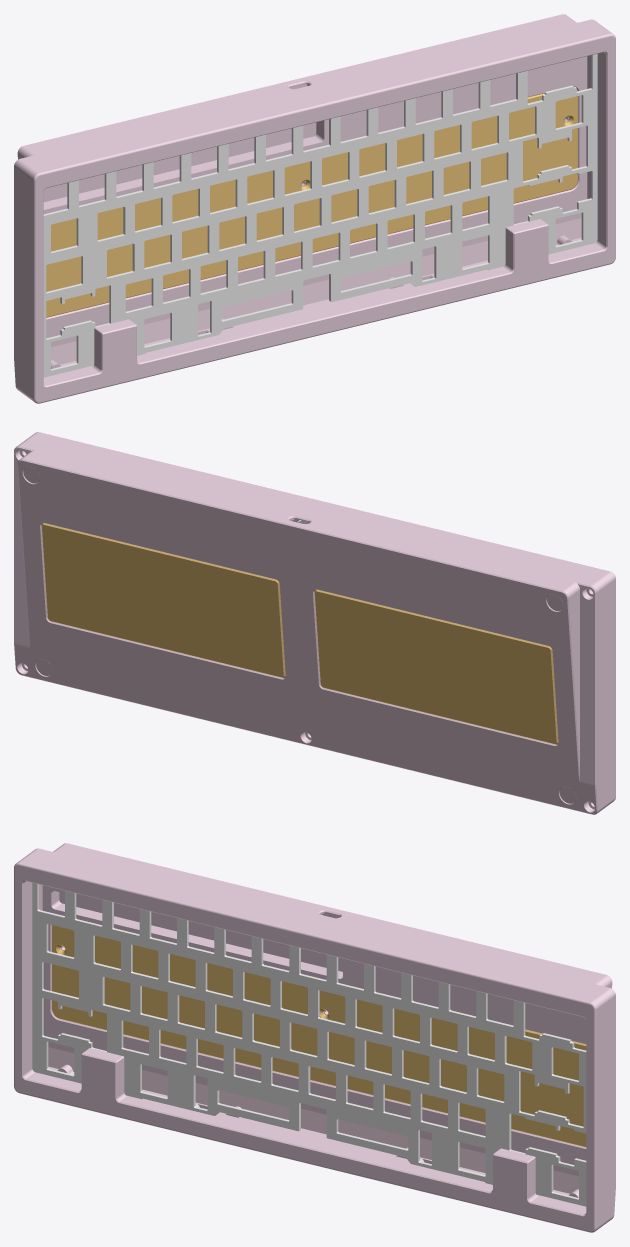
The model's file is shwill-shwilliam.fbx.
3 renders of one model, top to bottom at view 1: azimuth 30°, elevation 25°; view 2: azimuth 150°, elevation 25°; view 3: azimuth 330°, elevation 25°, orthographic.
Parts seen in each view (by area): view 1: Plate, Top, Bottom, Weight; view 2: Bottom, Weight, Top; view 3: Plate, Top, Bottom, Weight.
Boxes of the visible parts, x1=… form: Plate: x1=43, y1=53, x2=597, y2=377; Top: x1=22, y1=25, x2=615, y2=403; Bottom: x1=14, y1=14, x2=601, y2=393; Weight: x1=46, y1=89, x2=577, y2=317; Bottom: x1=14, y1=440, x2=604, y2=814; Weight: x1=41, y1=523, x2=558, y2=744; Top: x1=25, y1=432, x2=615, y2=808; Plate: x1=32, y1=882, x2=586, y2=1206; Top: x1=14, y1=854, x2=607, y2=1232; Bottom: x1=28, y1=843, x2=615, y2=1222; Weight: x1=52, y1=925, x2=586, y2=1147.
Bounding box in the file's own units: 297 × 112 × 29.43.
